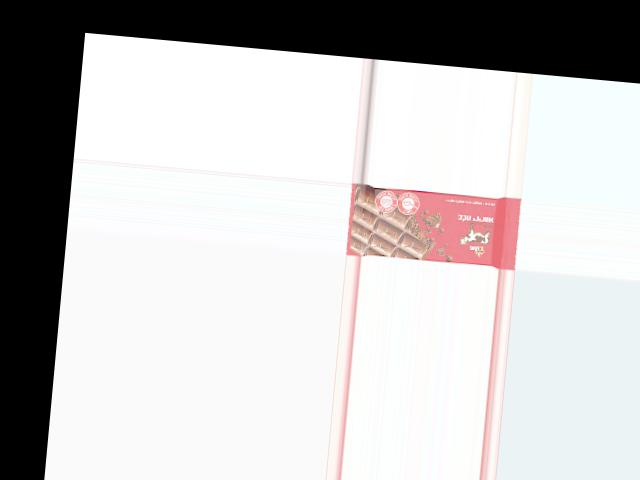chocolate: (347, 183, 522, 269)
